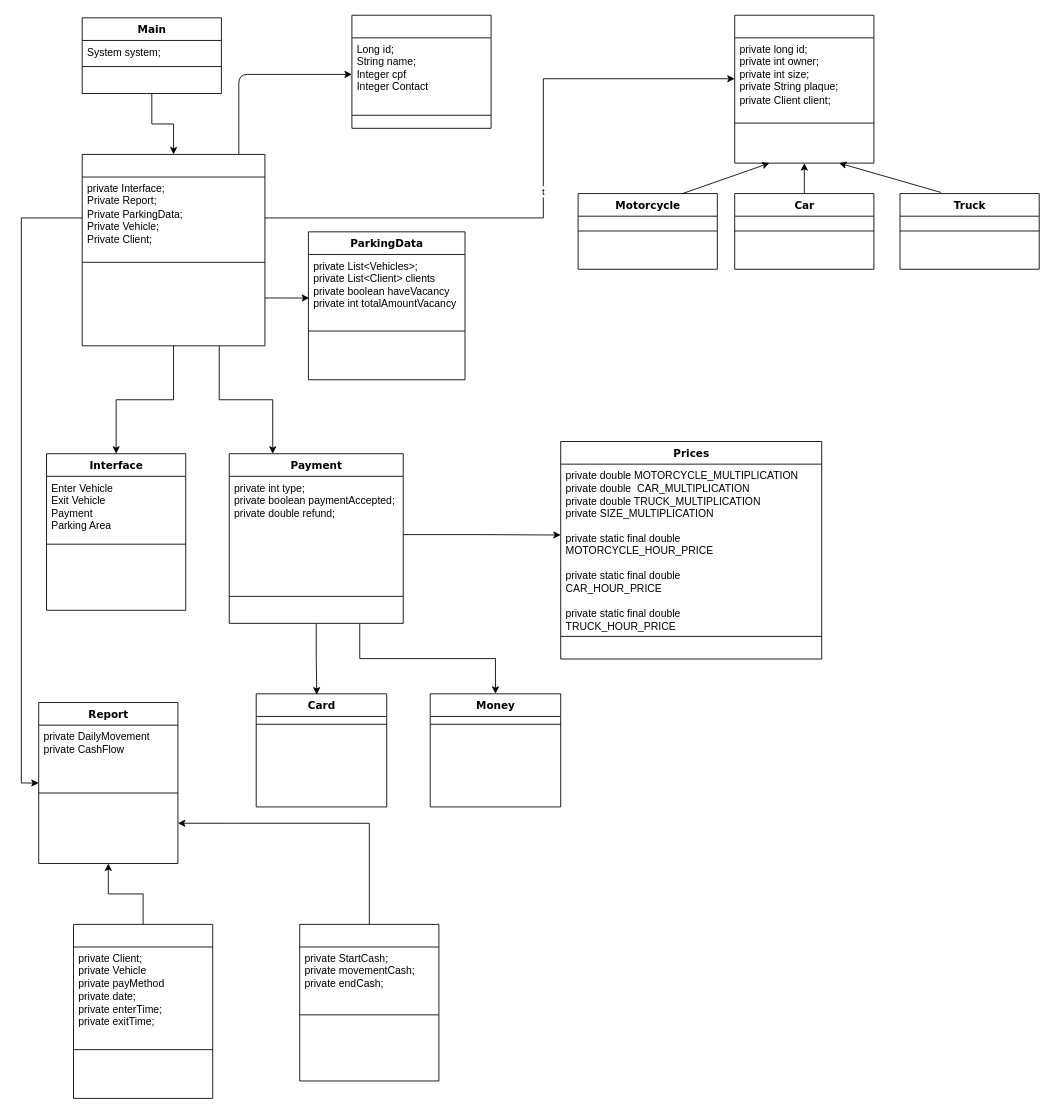
The diagram is 1054 pixels wide and 1114 high, and some of its shapes have lost their labels. Each missing label, with the box of its shape:
CashFlow: (299, 924, 439, 1081)
Client: (351, 14, 491, 128)
DailyMovement: (73, 924, 213, 1098)
System: (81, 154, 265, 346)
Vehicle: (734, 14, 874, 163)
